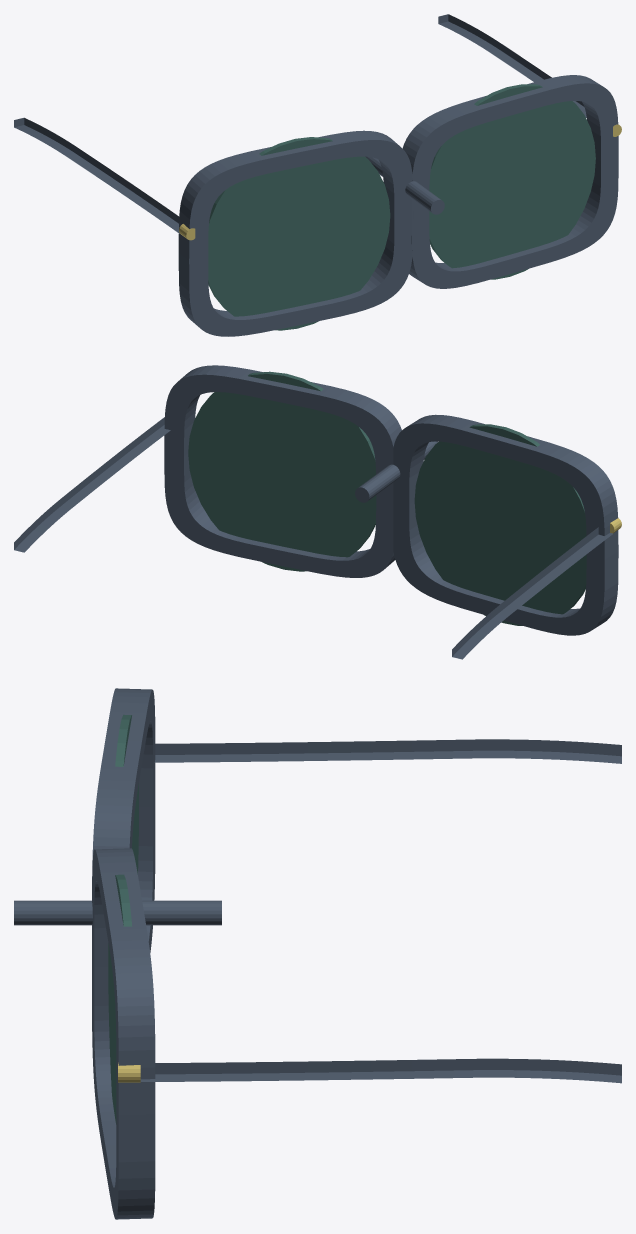
File: test_render.glb
The picture shows the model from 3 angles, top to bottom: view 1: azimuth 30°, elevation 25°; view 2: azimuth 150°, elevation 25°; view 3: azimuth 270°, elevation 25°; orthographic projection. The views are drawn at different scales.
Parts seen in each view (by area): view 1: LensLeft, LensRight, Rim_Left, Rim_Right, TempleLeft, TempleRight, Bridge; view 2: LensRight, LensLeft, Rim_Left, Rim_Right, TempleRight, TempleLeft, Bridge; view 3: Rim_Right, TempleLeft, TempleRight, Rim_Left, Bridge, LensRight, LensLeft.
Boxes of the visible parts, x1,y1,x2,y2 form: LensLeft: (208, 137, 390, 330); LensRight: (429, 84, 595, 279); Rim_Left: (178, 130, 413, 336); Rim_Right: (402, 75, 618, 288); TempleLeft: (14, 117, 179, 233); TempleRight: (438, 14, 586, 117); Bridge: (365, 156, 444, 214); LensRight: (188, 371, 376, 571); LensLeft: (414, 424, 586, 625); Rim_Left: (393, 414, 618, 635); Rim_Right: (164, 365, 401, 577); TempleRight: (14, 417, 170, 552); TempleLeft: (452, 527, 613, 659); Bridge: (355, 441, 437, 502); Rim_Right: (92, 848, 155, 1219); TempleLeft: (154, 739, 621, 763); TempleRight: (140, 1058, 621, 1083); Rim_Left: (92, 688, 155, 952); Bridge: (14, 900, 221, 925); LensRight: (108, 874, 132, 1124); LensLeft: (115, 714, 138, 874).
Size of the model in its own units: 1.4 by 0.5644 by 1.07.
